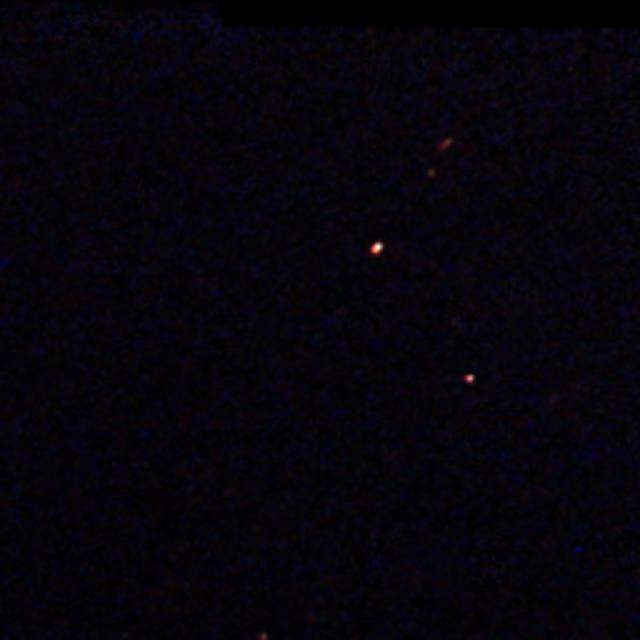microbeads: (368, 240, 388, 256), (465, 372, 477, 386)
